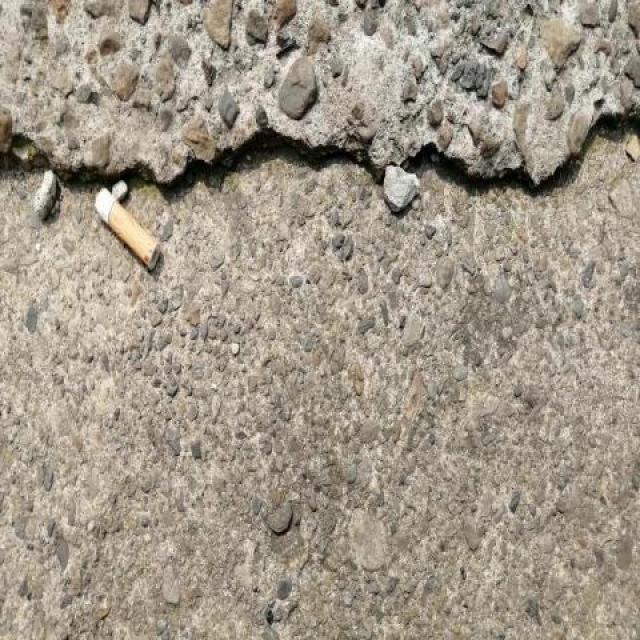non-organic waste: (91, 183, 164, 276)
